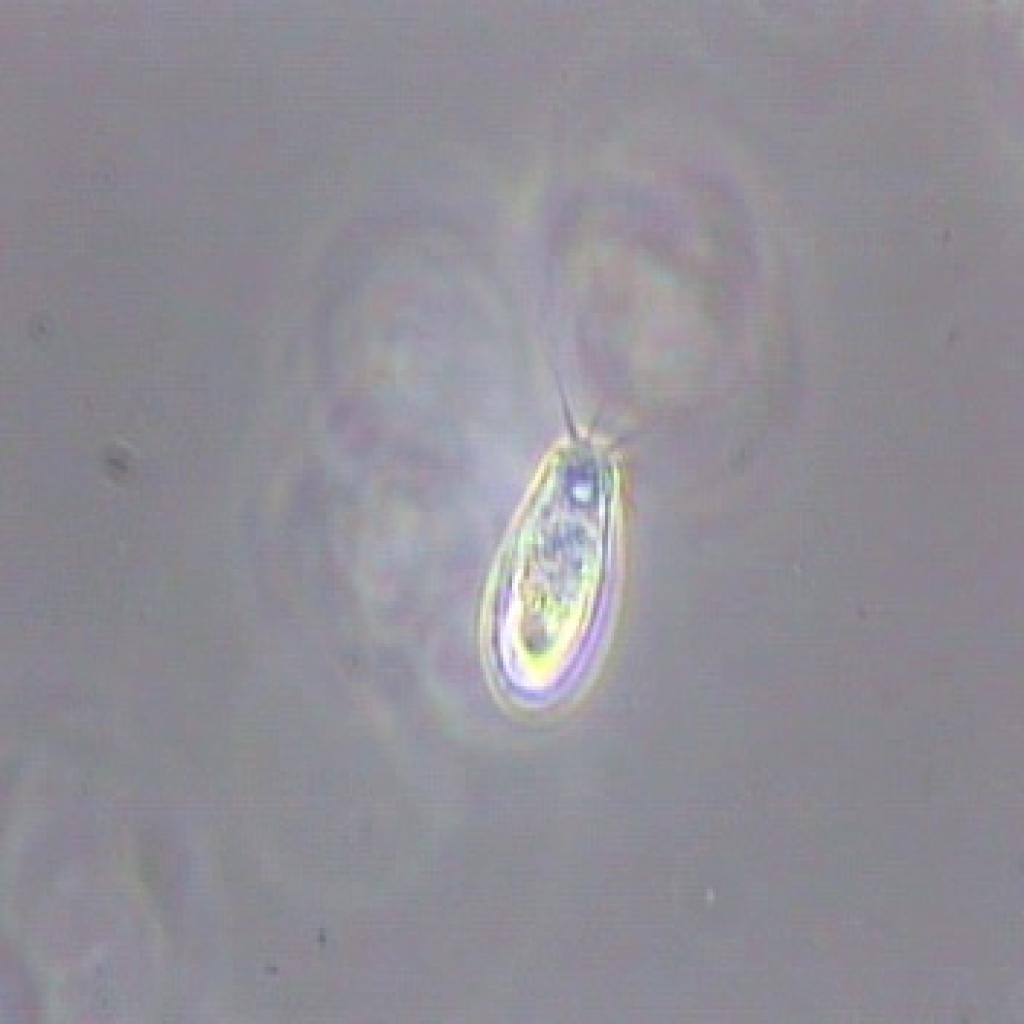Euglypha: (464, 391, 668, 725)
